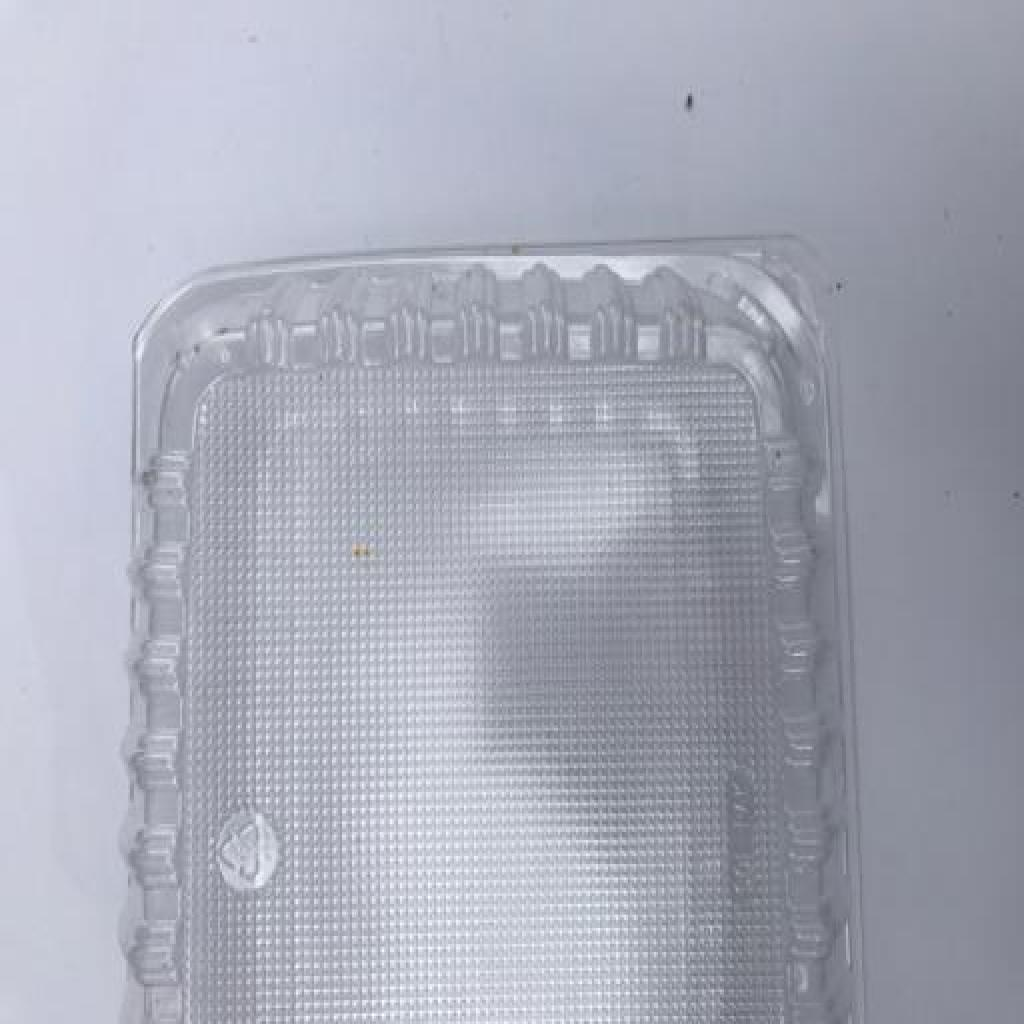organico: (90, 227, 880, 1019)
